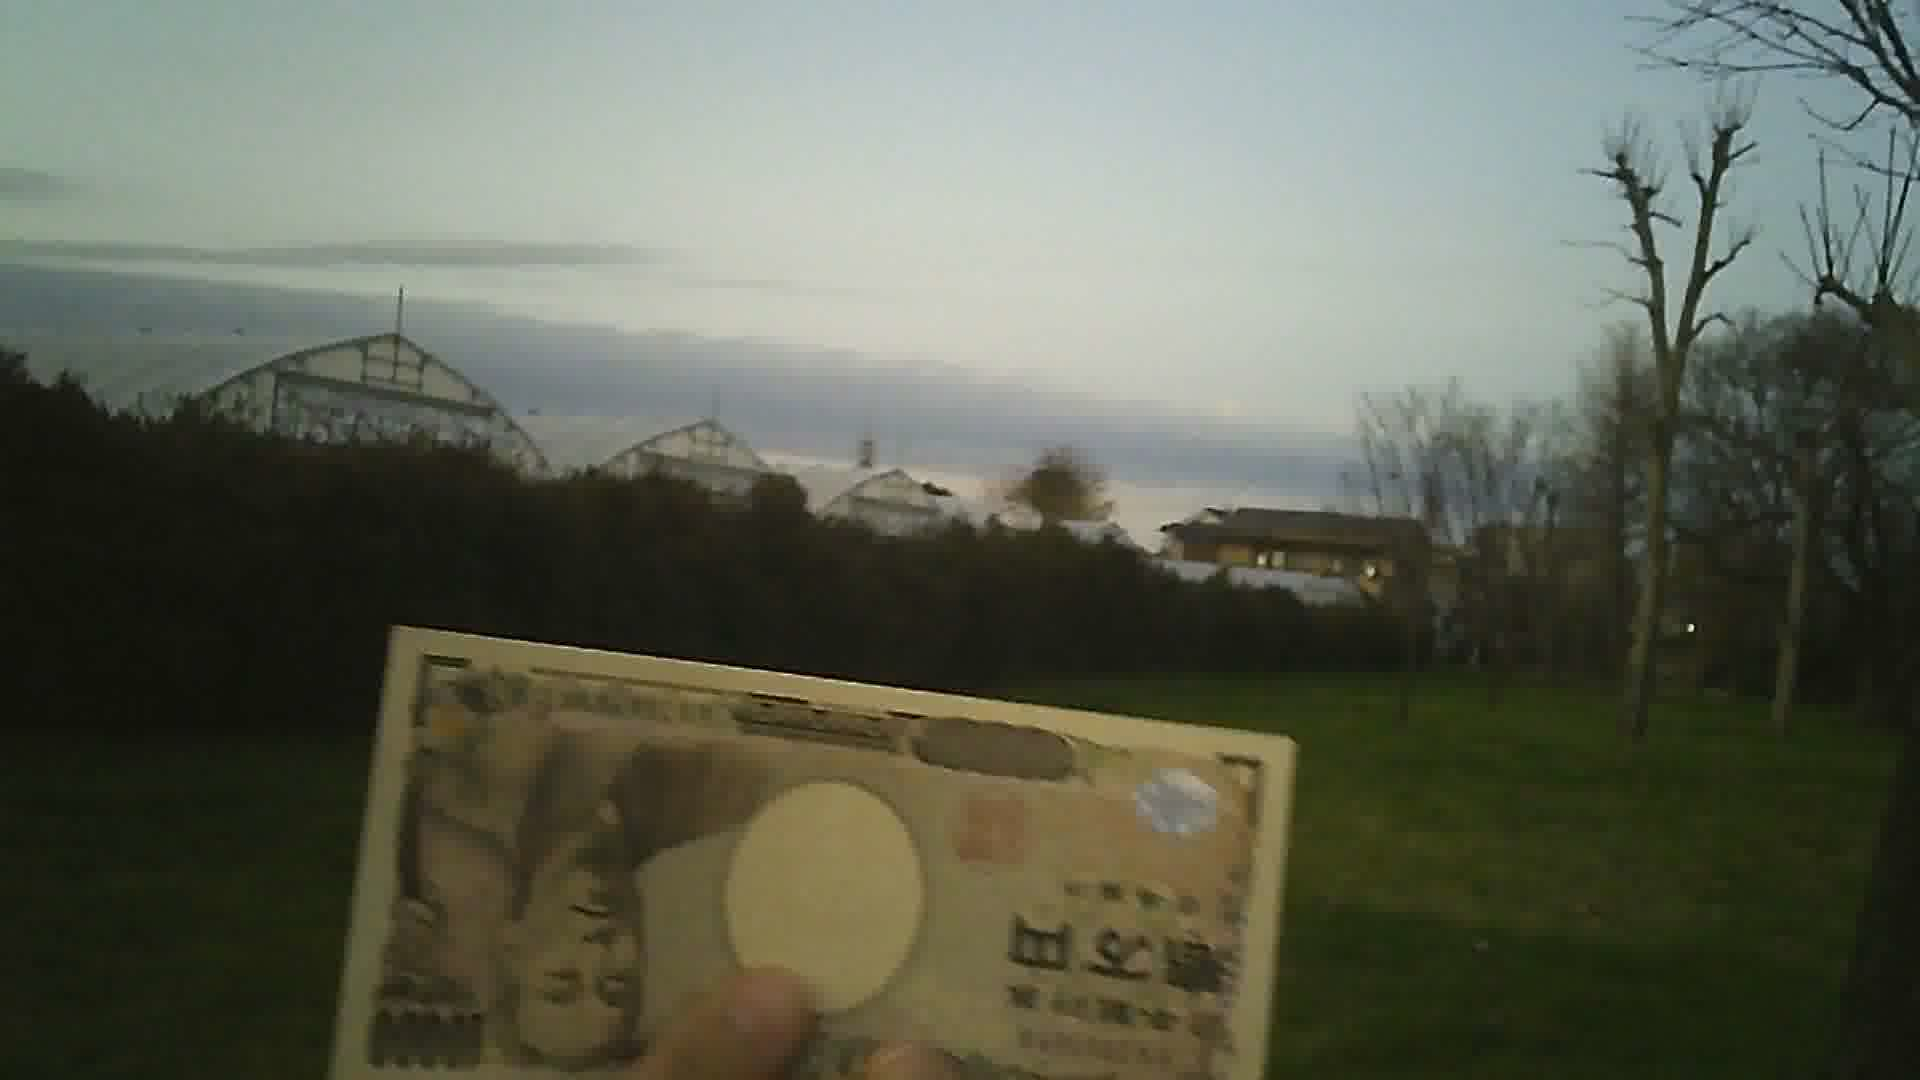10,000 Yen: (305, 618, 1298, 1077)
